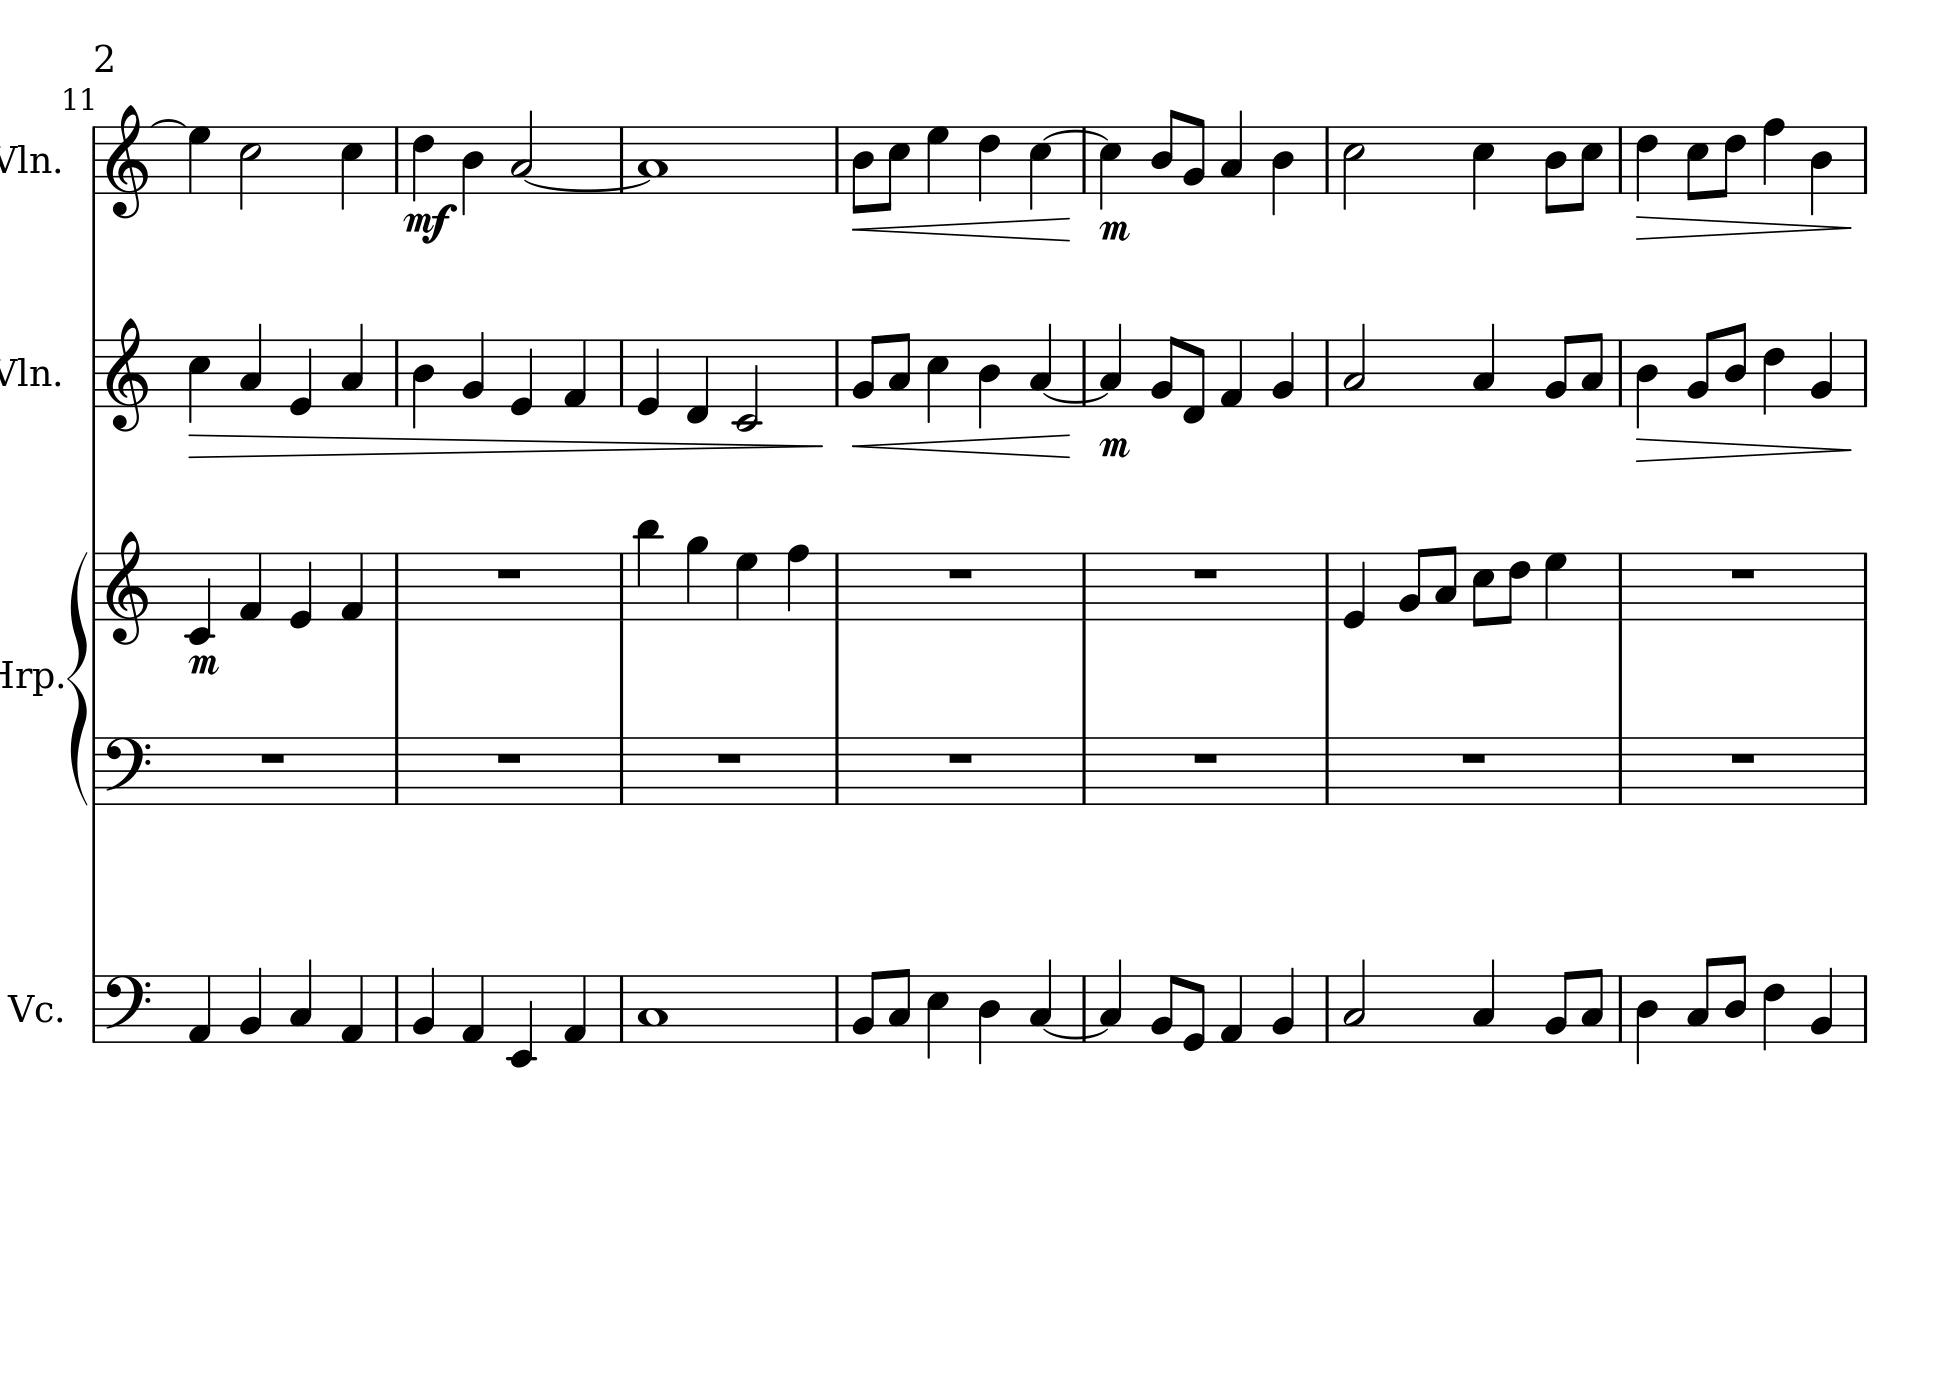1: (79, 85, 96, 112), (61, 85, 76, 112)
1_3: (636, 124, 667, 195), (637, 972, 667, 1042)
2: (91, 42, 115, 72)
2_-2: (732, 337, 760, 430)
2_3: (507, 106, 535, 193), (1341, 322, 1368, 406), (1341, 958, 1368, 1042)
2_5: (237, 124, 262, 211), (1341, 124, 1365, 210)
4_-1: (684, 336, 709, 424)
4_-2: (505, 970, 535, 1068), (184, 550, 214, 646)
4_0: (286, 337, 313, 418), (508, 337, 535, 418), (634, 336, 661, 417), (286, 550, 313, 631), (1342, 550, 1368, 628)
4_1: (561, 336, 588, 408), (235, 549, 262, 621), (337, 549, 364, 621), (186, 972, 213, 1044), (460, 973, 486, 1044), (562, 972, 588, 1042), (340, 973, 364, 1044)
4_11: (634, 517, 663, 619)
4_2: (1809, 964, 1836, 1044), (1269, 330, 1296, 408), (1809, 328, 1834, 408), (460, 328, 486, 406), (411, 964, 436, 1042), (1270, 964, 1296, 1042), (238, 964, 262, 1044)
4_3: (339, 321, 364, 406), (1471, 322, 1497, 408), (1219, 109, 1245, 193), (1099, 321, 1123, 408), (289, 955, 313, 1042), (238, 321, 262, 406), (1029, 321, 1053, 406), (1029, 957, 1053, 1042), (1099, 957, 1123, 1042), (1473, 958, 1497, 1042)
4_4: (409, 337, 436, 430), (976, 337, 1002, 429), (976, 973, 1002, 1063), (1635, 337, 1659, 429), (1635, 973, 1659, 1065), (460, 124, 484, 214), (1270, 124, 1294, 214), (1809, 126, 1833, 216)
4_5: (1470, 124, 1497, 211), (1098, 124, 1123, 211), (339, 123, 363, 211), (925, 972, 949, 1060), (1029, 124, 1053, 211), (187, 337, 211, 424), (925, 337, 949, 424)
4_6: (1761, 972, 1786, 1051), (409, 124, 433, 204), (976, 124, 1000, 204), (1761, 337, 1785, 417), (1635, 124, 1659, 202)
4_7: (733, 550, 760, 622), (186, 124, 211, 195), (924, 124, 949, 195), (1543, 550, 1569, 621)
4_8: (784, 541, 811, 622), (1761, 115, 1785, 195)
4_9: (684, 534, 711, 622)
8_-1: (1180, 337, 1206, 426)
8_0: (1182, 973, 1207, 1054)
8_1: (1218, 337, 1245, 408), (1218, 973, 1245, 1044)
8_2: (1686, 328, 1716, 406), (1543, 333, 1573, 408), (1398, 546, 1428, 621), (1543, 967, 1573, 1042), (850, 333, 880, 406), (850, 969, 880, 1042), (1149, 334, 1179, 406), (1150, 972, 1179, 1042), (1182, 115, 1206, 195)
8_3: (1686, 955, 1716, 1044), (1579, 966, 1605, 1044), (1581, 330, 1605, 409), (886, 331, 910, 409), (1434, 544, 1458, 622), (886, 967, 910, 1044)
8_4: (1150, 108, 1182, 193), (850, 124, 874, 216), (1543, 124, 1567, 216), (1723, 952, 1747, 1042), (1723, 321, 1747, 406)
8_5: (880, 124, 910, 213), (1573, 124, 1603, 213), (1470, 550, 1495, 628), (1686, 124, 1710, 202)
8_6: (1717, 124, 1747, 199), (1501, 550, 1531, 625)
Brace: (67, 547, 88, 805)
Crescendo_hairpin: (855, 432, 1072, 460), (855, 214, 1071, 241)
Diminuendo_hairpin: (187, 432, 816, 457), (1636, 211, 1854, 240), (1636, 438, 1852, 462)
Fclef: (102, 733, 151, 802), (103, 972, 151, 1042)
Gclef: (103, 315, 151, 436), (103, 528, 150, 646), (103, 103, 148, 220)
Hrp: (1, 657, 54, 697)
Rests1: (256, 748, 288, 766), (945, 565, 976, 582), (493, 748, 523, 765), (714, 748, 744, 765), (945, 748, 975, 765), (1728, 748, 1758, 765), (493, 565, 525, 580), (1191, 565, 1221, 580), (1728, 565, 1758, 580), (1191, 750, 1221, 765), (1459, 750, 1489, 765)
Single_barline: (828, 126, 846, 193), (613, 126, 631, 192), (1857, 337, 1873, 406), (1857, 126, 1873, 193), (828, 552, 844, 619), (1857, 552, 1873, 619), (1857, 736, 1873, 804), (388, 126, 405, 192), (1612, 126, 1629, 192), (1077, 127, 1093, 193), (388, 339, 405, 405), (613, 553, 630, 619), (1612, 973, 1629, 1039), (1614, 337, 1629, 406), (829, 337, 844, 406), (388, 552, 403, 621), (1320, 736, 1335, 805), (1858, 973, 1873, 1042), (87, 339, 102, 406), (1320, 552, 1335, 619), (1614, 552, 1629, 619), (388, 736, 403, 804), (613, 736, 628, 804), (1077, 736, 1092, 804), (87, 975, 102, 1042), (613, 339, 628, 405), (1077, 553, 1092, 619), (829, 736, 844, 802), (388, 975, 403, 1041), (613, 975, 628, 1041), (1320, 975, 1335, 1041), (1320, 126, 1335, 190), (1077, 339, 1092, 403), (1320, 340, 1335, 405), (829, 975, 844, 1039), (1077, 975, 1092, 1039), (87, 124, 100, 193), (88, 550, 102, 619), (1614, 736, 1627, 804), (88, 735, 100, 805)
Slur: (523, 178, 646, 190), (1042, 127, 1110, 141), (1041, 391, 1110, 403), (1041, 1027, 1110, 1039), (148, 117, 187, 127)
Vc: (4, 987, 58, 1027)
Vln: (1, 351, 52, 393), (1, 139, 52, 178)
m: (184, 649, 222, 678), (1096, 433, 1132, 462), (1098, 217, 1131, 244)
mf: (402, 202, 460, 246)
